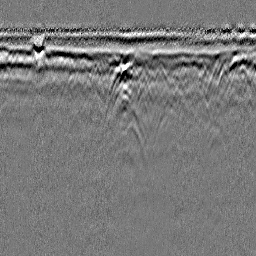cavity: (103, 62, 147, 114)
